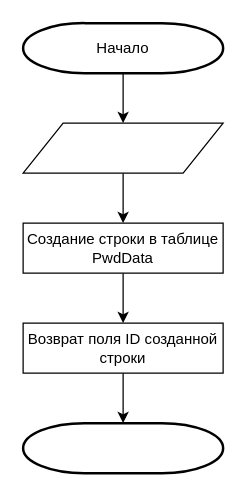
This 245x495 diagram has some shape labels left out. Each missing label, with the centre of its shape:
"Ввод пароля" goes at point (122, 147).
"Конец" goes at point (122, 447).
